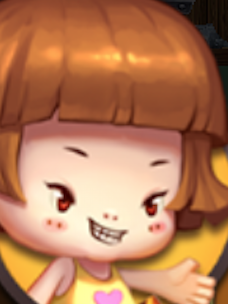ImgView: (1, 1, 227, 303)
